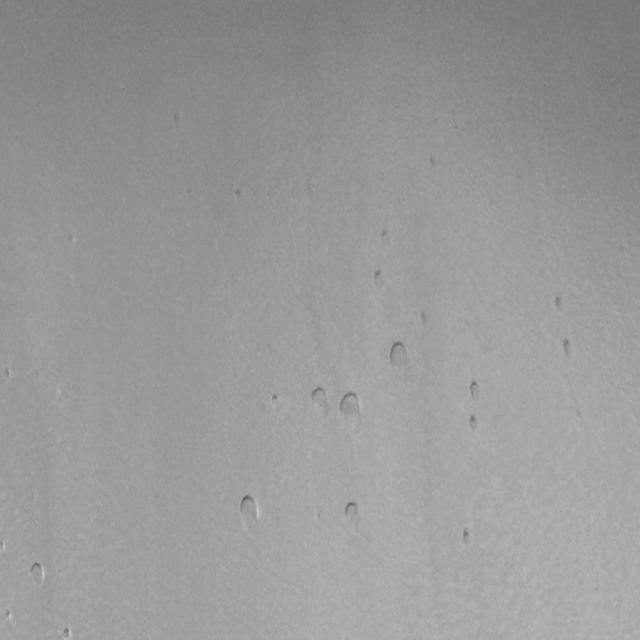pin holes: (337, 388, 365, 426), (237, 492, 264, 528), (388, 341, 412, 372), (308, 384, 331, 415), (342, 498, 363, 526), (28, 562, 48, 590), (558, 337, 578, 363), (457, 526, 476, 553), (467, 379, 485, 403), (465, 413, 483, 436), (552, 293, 571, 314), (372, 267, 389, 290), (376, 227, 394, 248), (417, 309, 434, 331), (169, 111, 186, 131), (232, 187, 246, 204), (270, 392, 284, 408), (65, 232, 78, 249), (4, 608, 17, 624), (60, 626, 74, 640), (2, 366, 14, 382), (0, 539, 8, 555)
